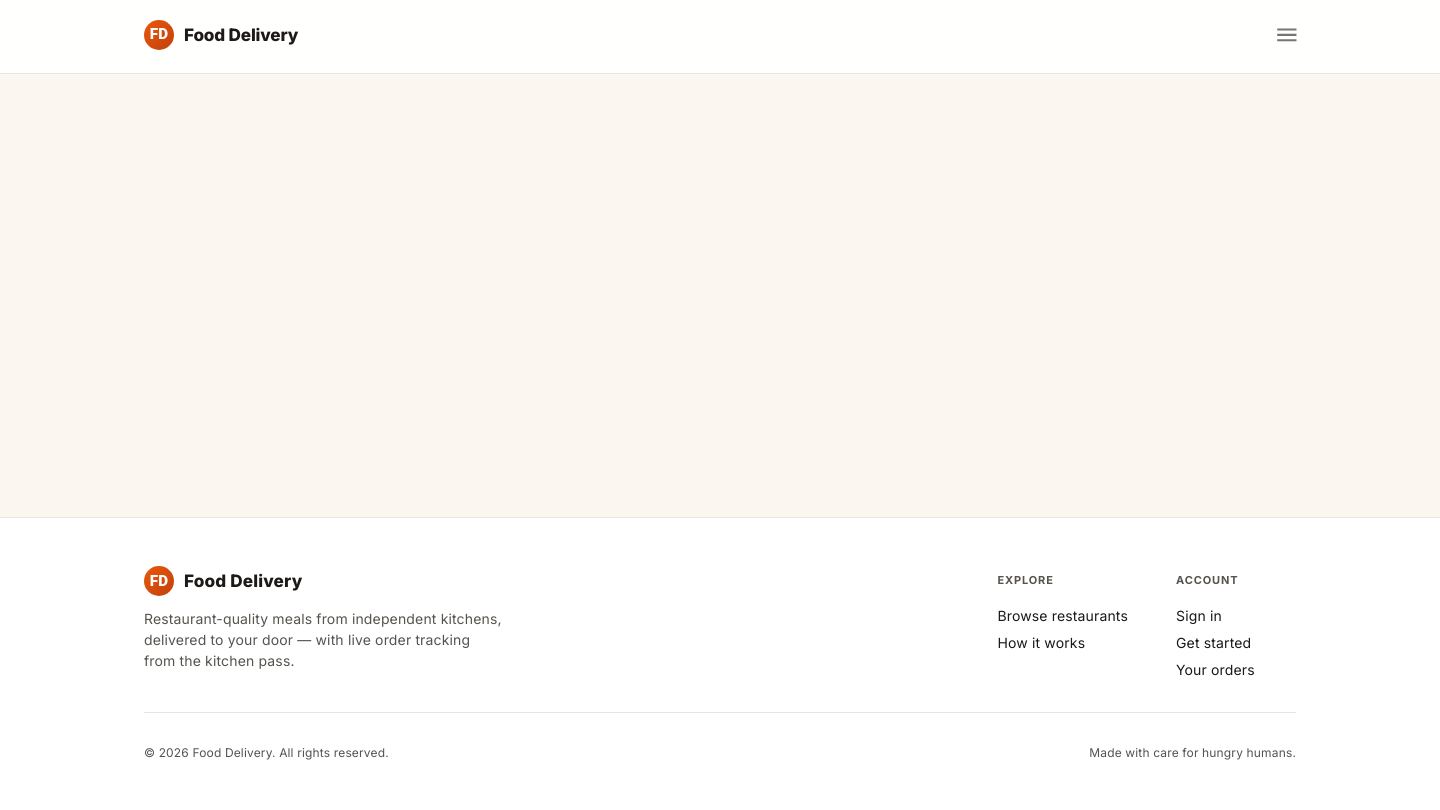
Test: App mobile header › opens the drawer with expected links for anonymous users
Click the button named "open navigation menu" at [1287, 35], box [1266,14,1308,56]
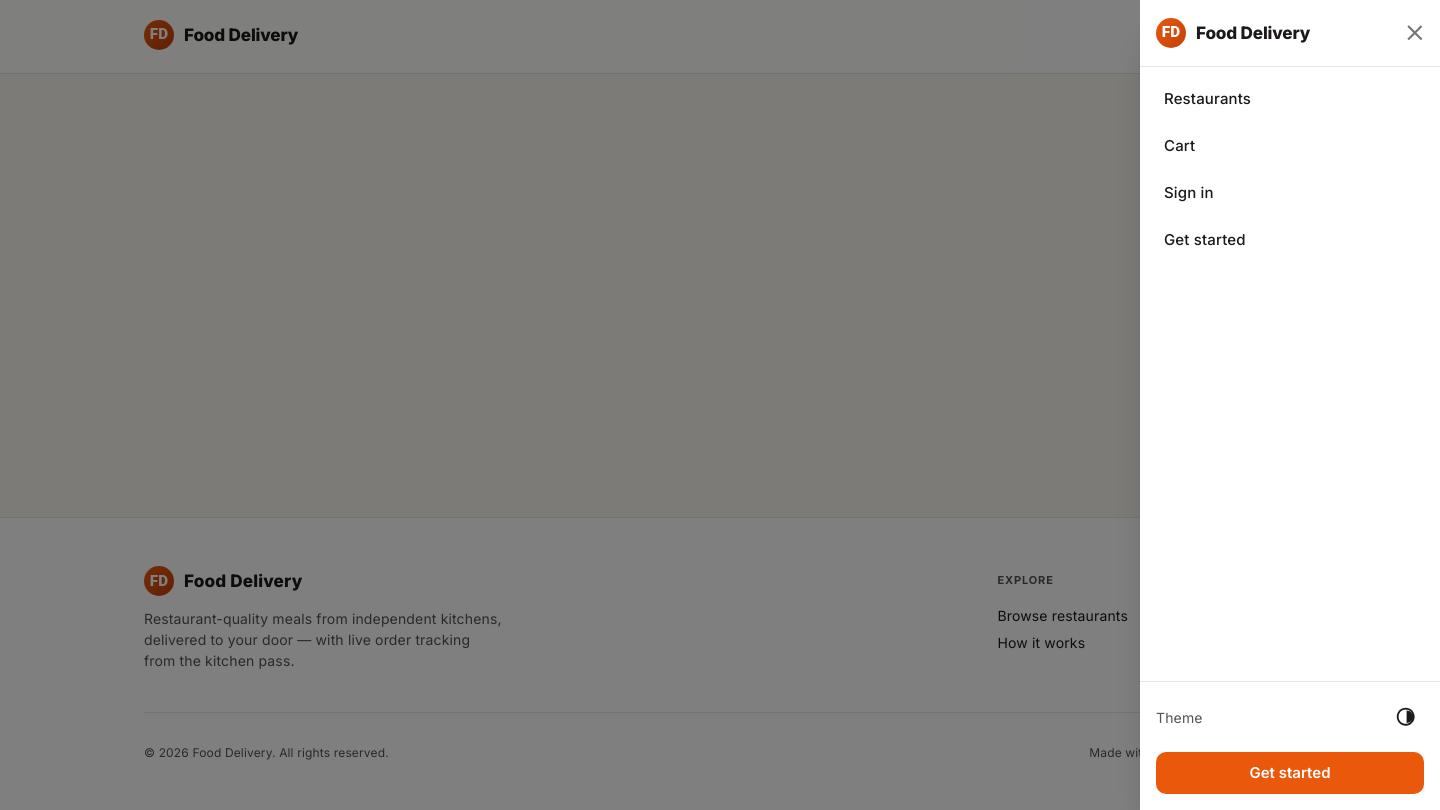
Result: the link "Restaurants" is shown at [1164,89,1251,108]
Result: the link "Cart" is shown at [1164,136,1195,155]
Result: the link "Sign in" is shown at [1164,183,1214,202]
